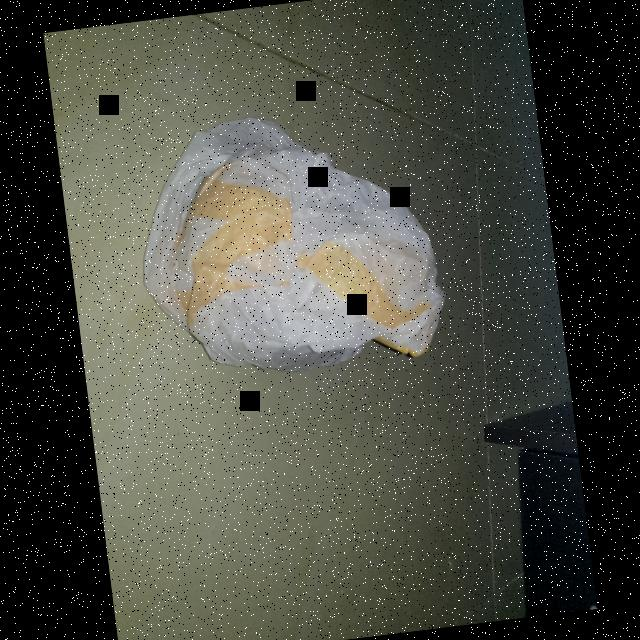plastic_bag: (110, 81, 460, 404)
